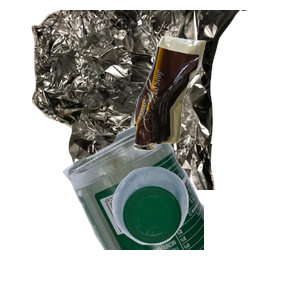glass: (60, 120, 300, 300)
metal: (29, 10, 269, 190)
plastic: (110, 164, 300, 300)
trash: (131, 34, 300, 177)
